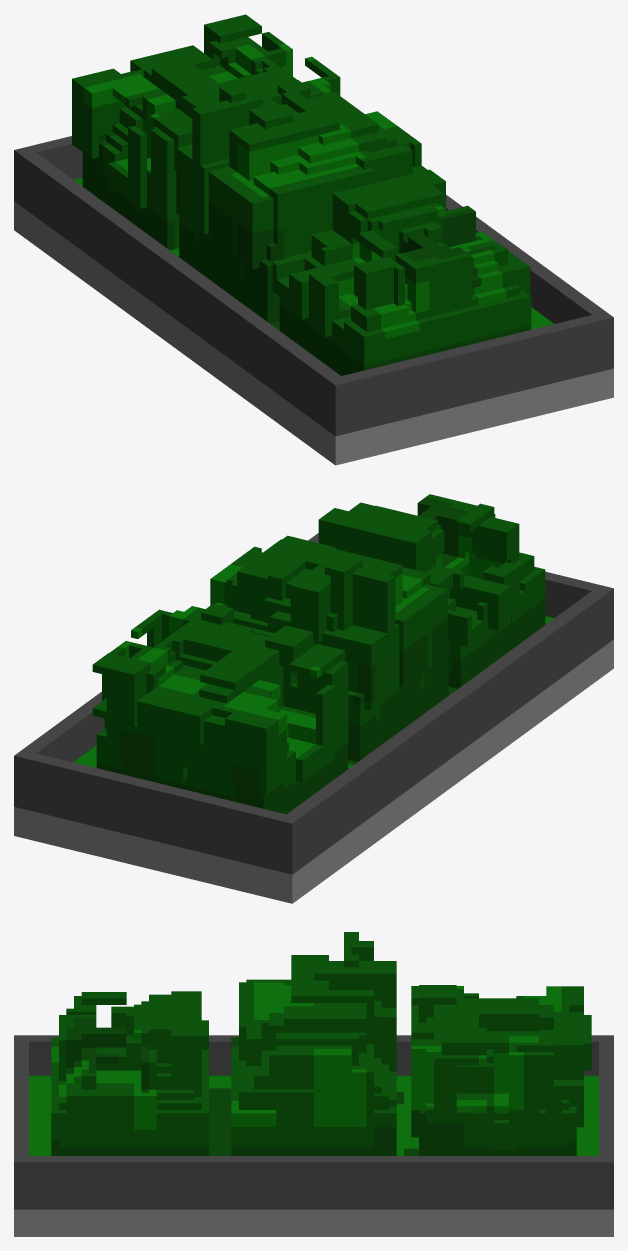
Rendered from Tree Road Long 1.obj.
3 renders of one model, top to bottom at view 1: azimuth 30°, elevation 25°; view 2: azimuth 150°, elevation 25°; view 3: azimuth 270°, elevation 25°, orthographic. The views are drawn at different scales.
Visible parts, largest first — view 1: Tree_Road_Long_1; view 2: Tree_Road_Long_1; view 3: Tree_Road_Long_1.
Boxes of the visible parts, x1,y1,x2,y2 form: Tree_Road_Long_1: (14, 14, 613, 465); Tree_Road_Long_1: (14, 494, 613, 903); Tree_Road_Long_1: (14, 932, 613, 1236).
Size of the model in its own units: 4 by 3 by 8.
1 material, 1 textured.
